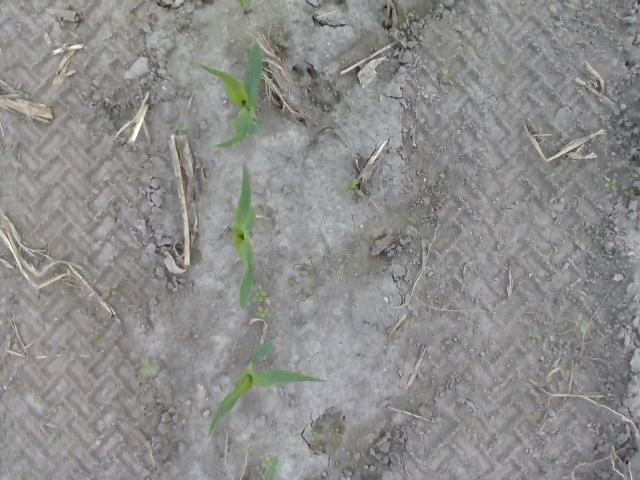Maize: (208, 340, 332, 441), (194, 41, 262, 150), (230, 162, 256, 310), (262, 454, 280, 480)
Weeds: (252, 288, 272, 318), (139, 356, 159, 386), (342, 178, 368, 199), (102, 283, 120, 296), (603, 176, 617, 192), (576, 320, 589, 332), (175, 122, 188, 134), (258, 454, 270, 466), (439, 70, 449, 82), (242, 446, 254, 454), (552, 168, 560, 178)
